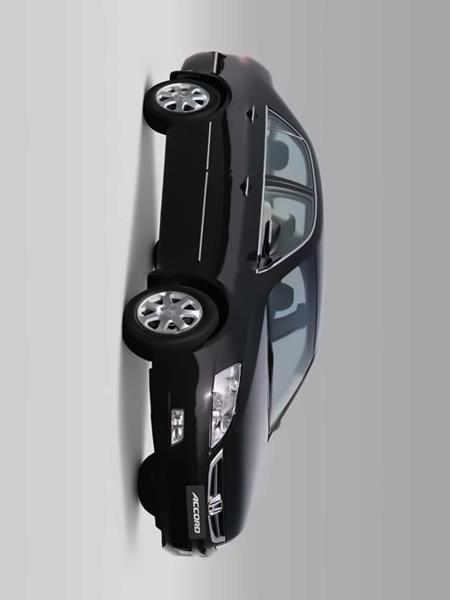Car hood: (220, 307, 272, 549)
Driver-s door - -F-R-: (169, 177, 325, 275)
Fender - -F-L-: (156, 271, 285, 364)
Fender - -R-R-: (183, 54, 270, 117)
Front bumper: (146, 345, 215, 566)
Headlight - -R-: (206, 356, 245, 454)
Passenger-s door - -R-R-: (169, 100, 323, 181)
Rear bumper: (167, 44, 223, 94)
Side bumper - -R-: (156, 112, 211, 288)
Side mirror - -R-: (254, 207, 284, 275)
